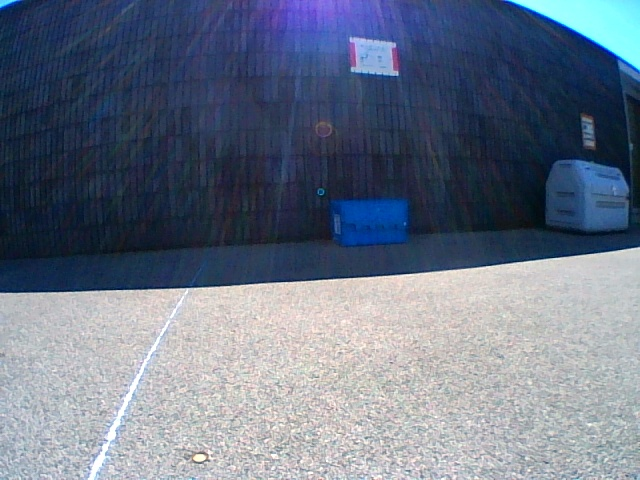blue_box: (331, 198, 407, 246)
tag: (334, 216, 339, 233)
